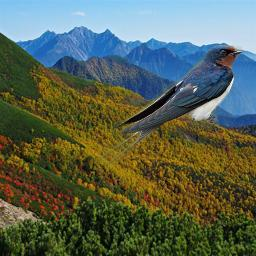Swallow: (98, 45, 244, 167)
